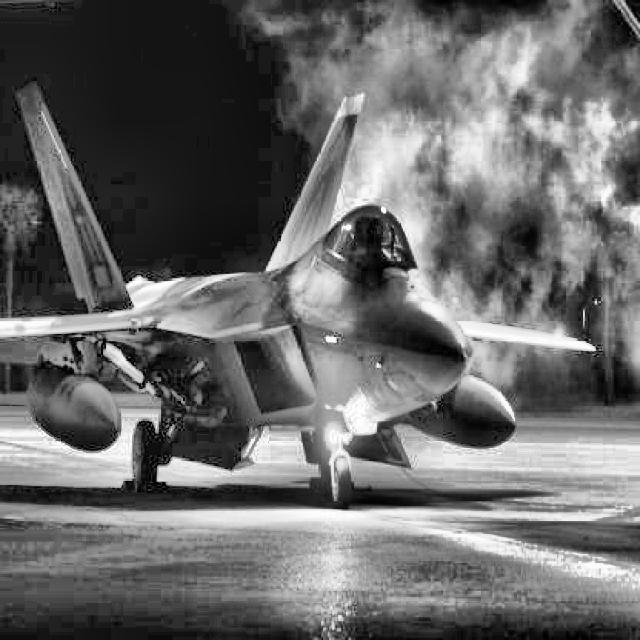F22: (0, 84, 597, 508)
